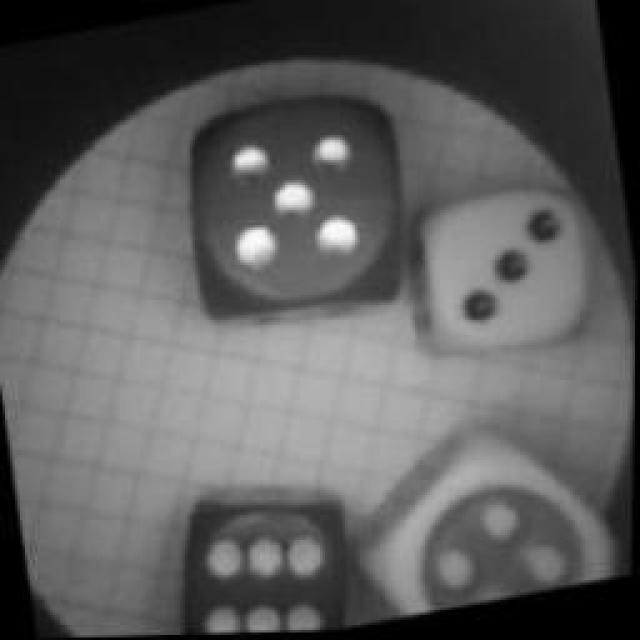dice_3: (396, 165, 614, 380)
dice_4: (341, 404, 621, 626)
dice_5: (162, 65, 438, 353)
dice_6: (151, 460, 364, 638)
